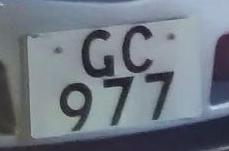7: (99, 72, 145, 130), (136, 69, 182, 124)
9: (54, 77, 106, 133)
C: (70, 19, 127, 81), (113, 17, 170, 77)
